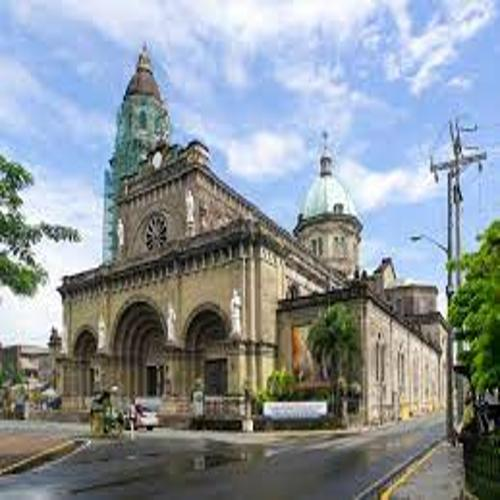Manila Cathedral Church: (38, 26, 451, 430)
